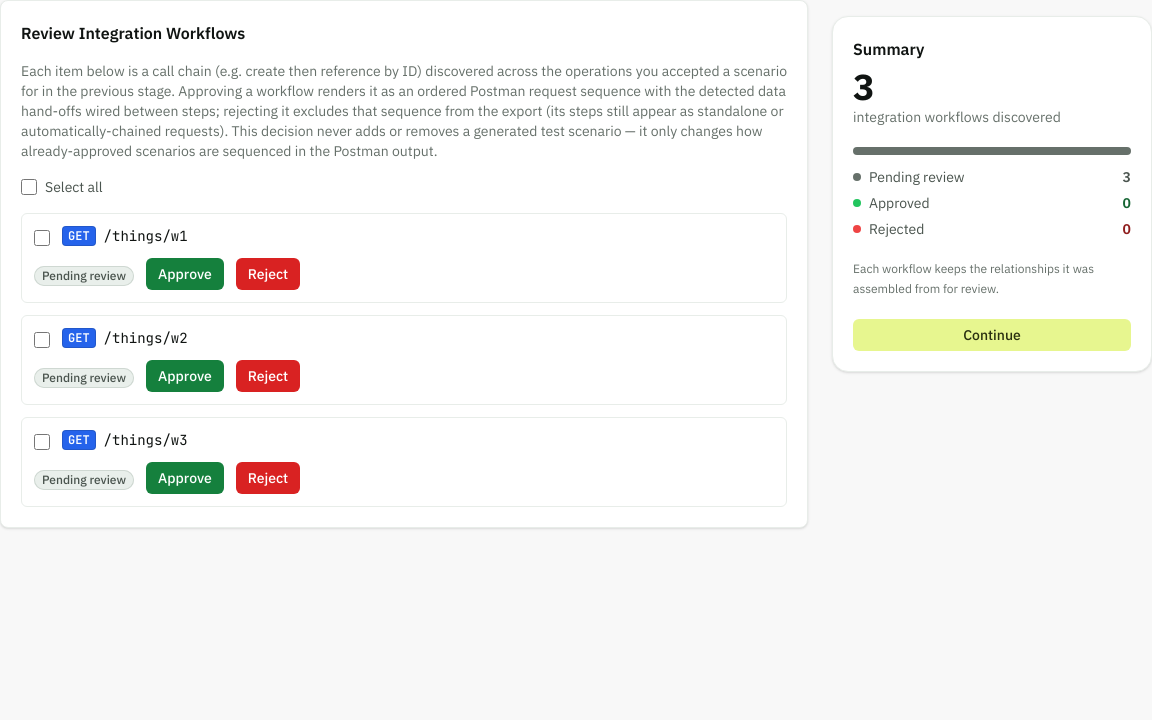
Test: WorkflowReviewStage bulk actions › selects and deselects every workflow via the select-all checkbox
The width and height of the screenshot is (1152, 720).
Click the checkbox named "Select all workflows" at (29, 187), box [21,179,37,195]
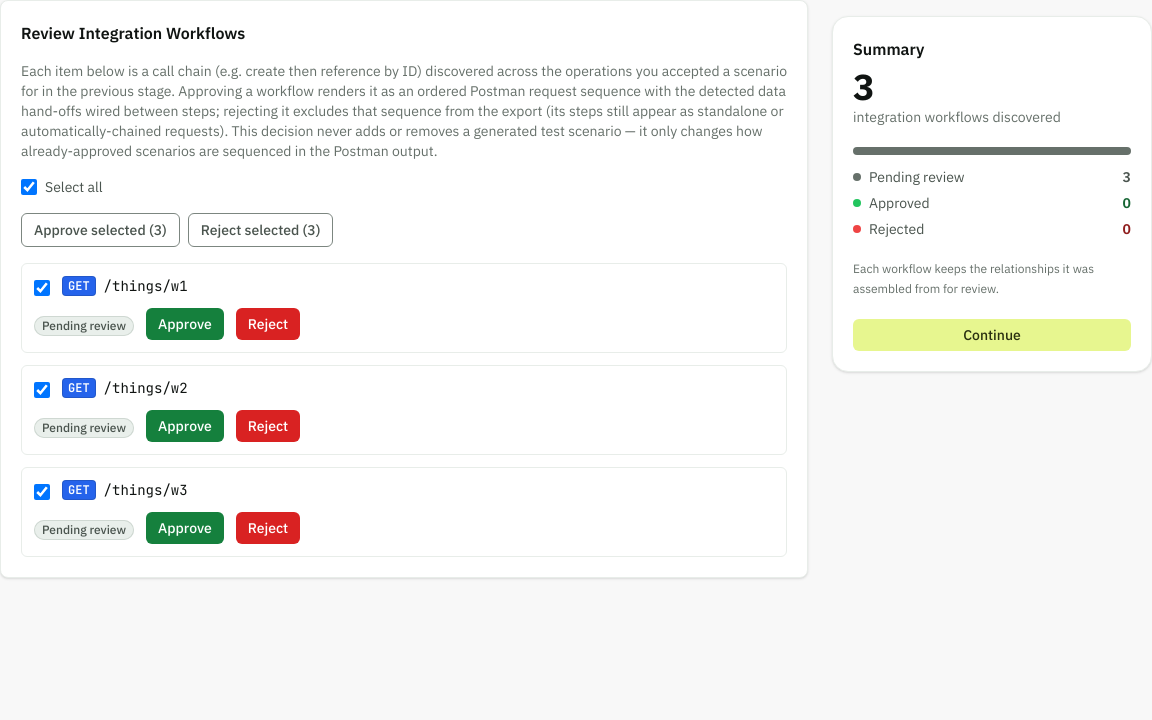
Expected: the checkbox named "Select all workflows" is checked
Expected: the checkbox named "w1" is checked, [34,280,50,296]
Expected: the checkbox named "w2" is checked, [34,382,50,398]
Click the checkbox named "Select all workflows" at (29, 187), box [21,179,37,195]
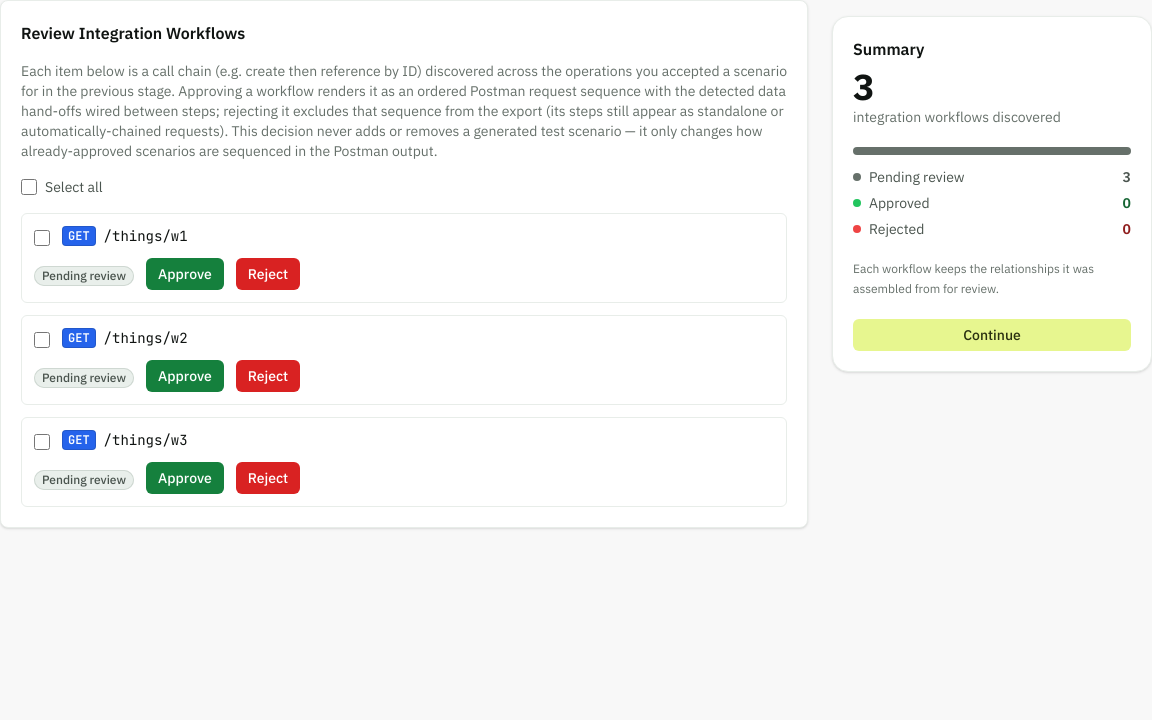
Expected: the checkbox named "Select all workflows" is not checked, [21,179,37,195]
Expected: the checkbox named "w1" is not checked, [34,230,50,246]
Expected: the element with test id "workflow-review-bulk-actions" is gone
